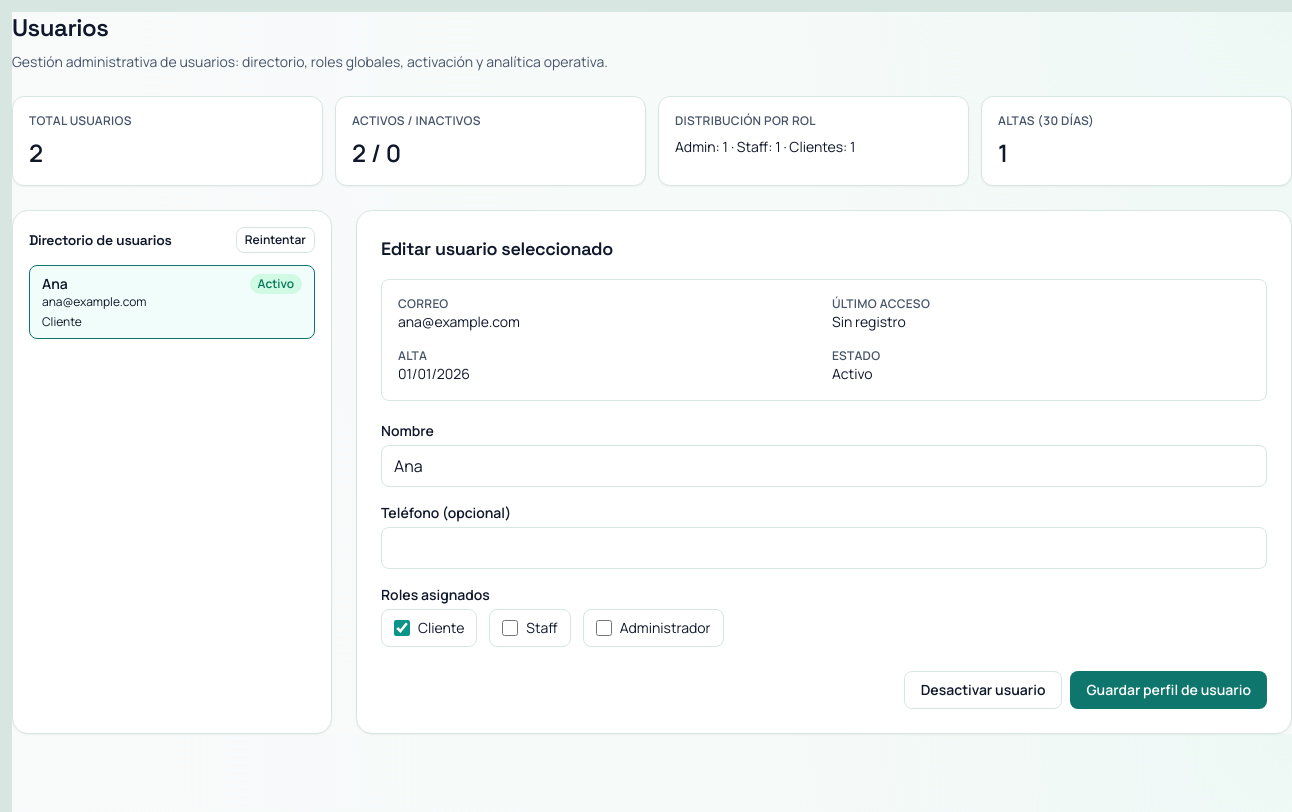
Scenario: AdminUsersPage › updates selected user profile
Replace the text in the field labelled "Nombre" with "Ana Maria" at x=824, y=466, box [381,445,1267,487]
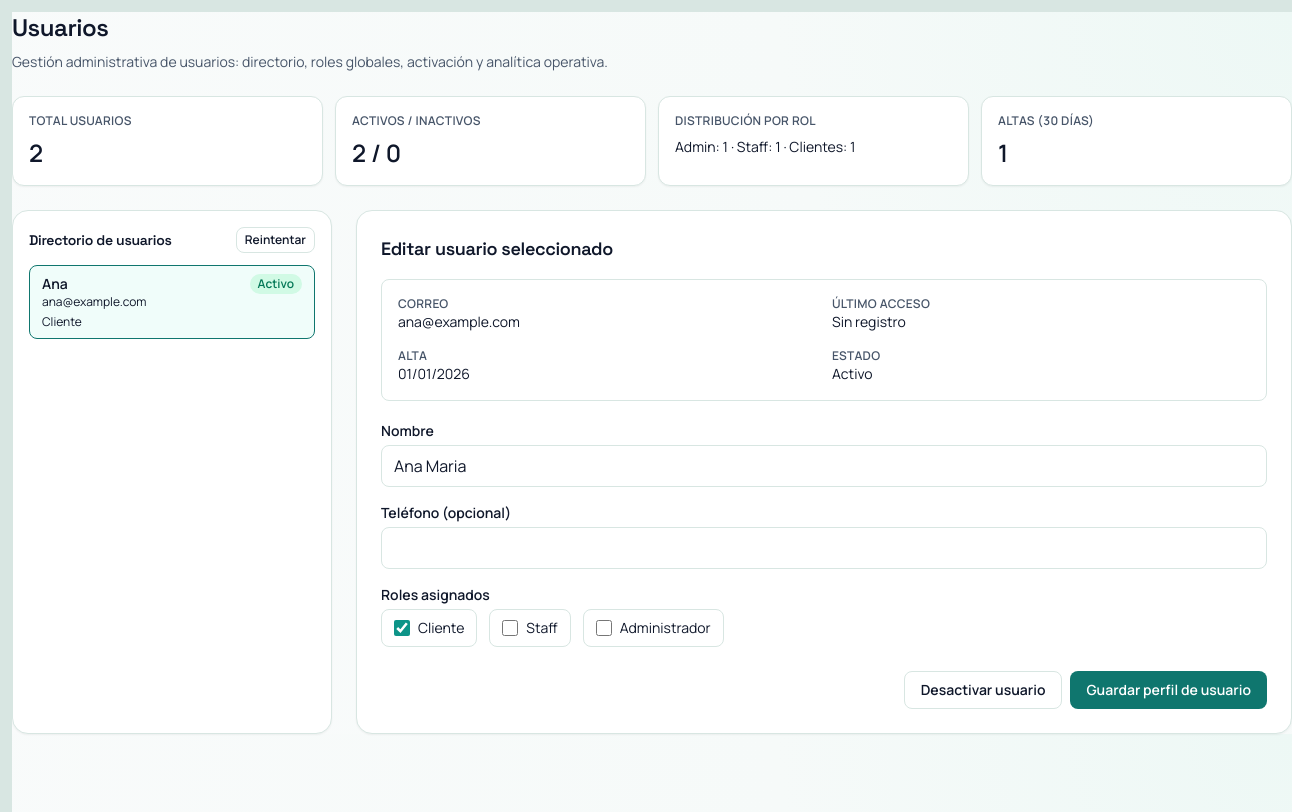
Click the button "Guardar perfil de usuario" at x=1169, y=690, box [1070,671,1267,709]
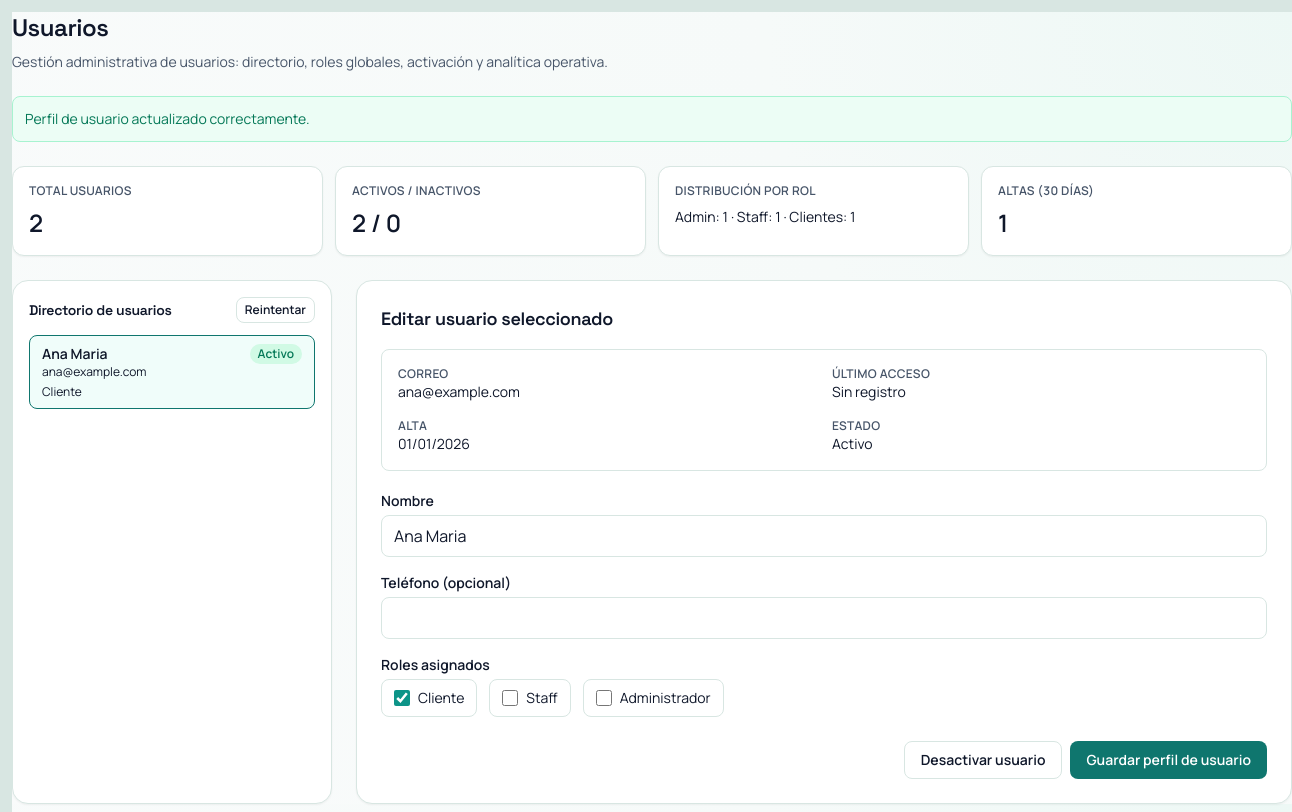
Check: the text "Perfil de usuario actualizado correctamente." is shown, box [12,96,1291,142]
